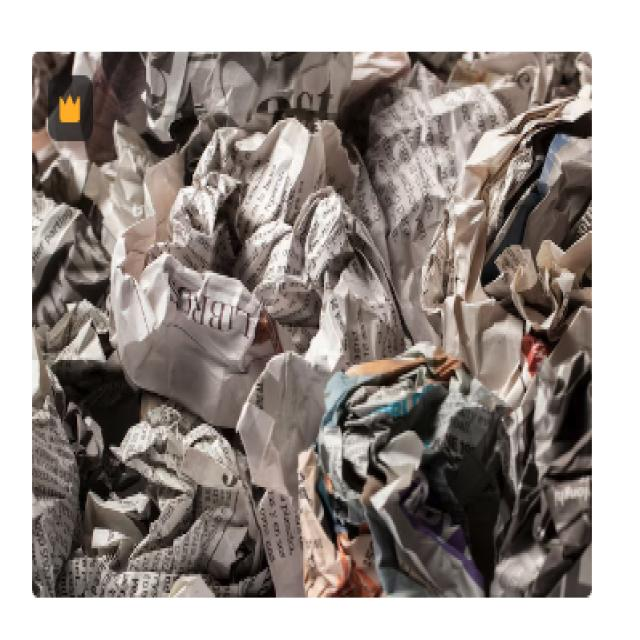Koran: (30, 49, 592, 596)
